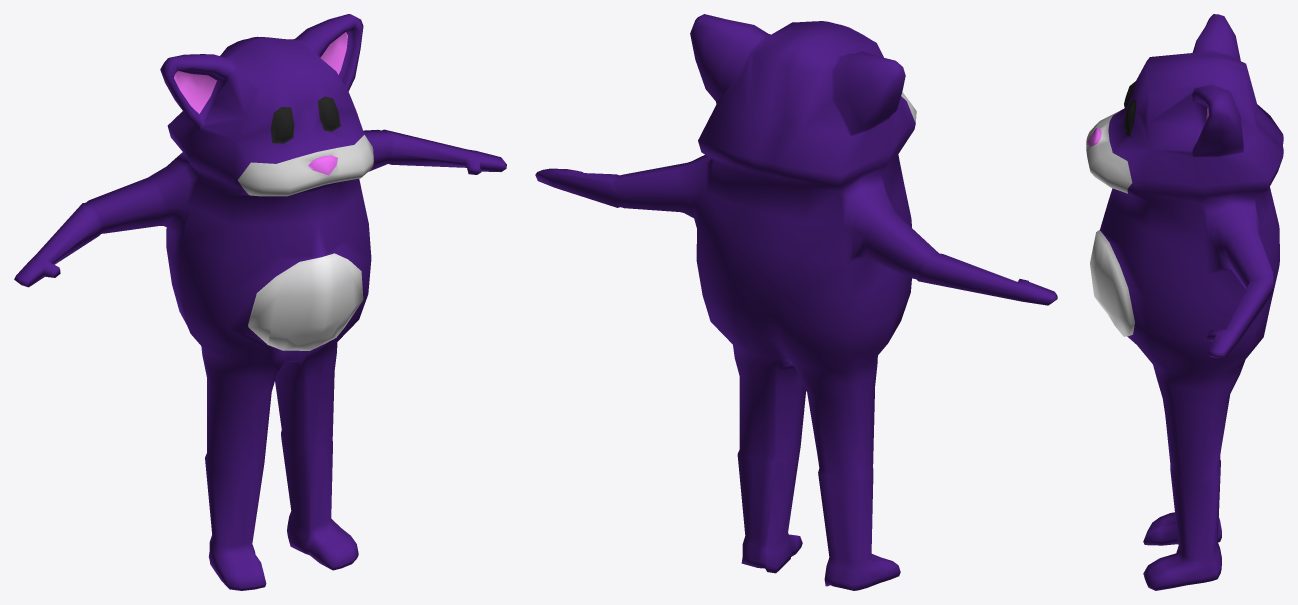
File: CAT_PERNA.fbx
3 renders of one model, left to right at view 1: azimuth 30°, elevation 25°; view 2: azimuth 150°, elevation 25°; view 3: azimuth 270°, elevation 25°, orthographic. The views are drawn at different scales.
Parts seen in each view (by area): view 1: Cube; view 2: Cube; view 3: Cube.
Part boxes in pixels (left/top/right/bottom): Cube: left=14, top=14, right=506, bottom=590; Cube: left=535, top=14, right=1057, bottom=590; Cube: left=1086, top=14, right=1283, bottom=590.
Size of the model in its own units: 996 by 1003 by 356.
